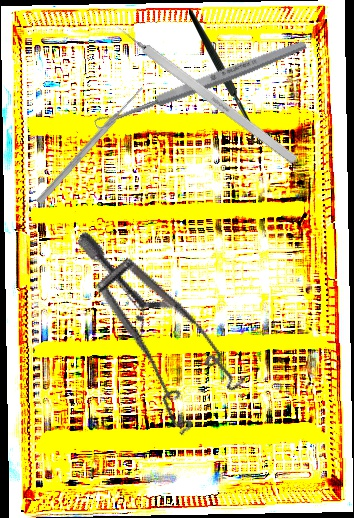Hook Surgical: (105, 15, 299, 166), (189, 9, 269, 143)
Pusher: (34, 84, 147, 206)
Speculum: (21, 229, 274, 451)
Surgical Spoon: (92, 37, 309, 132)
